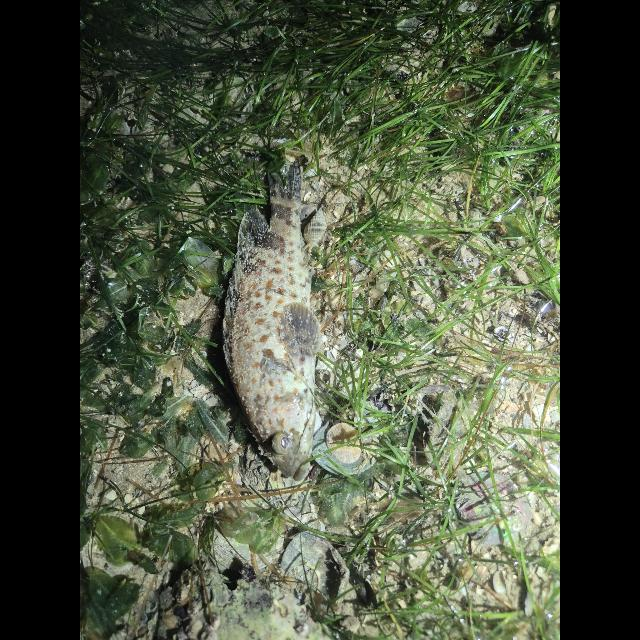Groupers: (218, 161, 329, 479)
